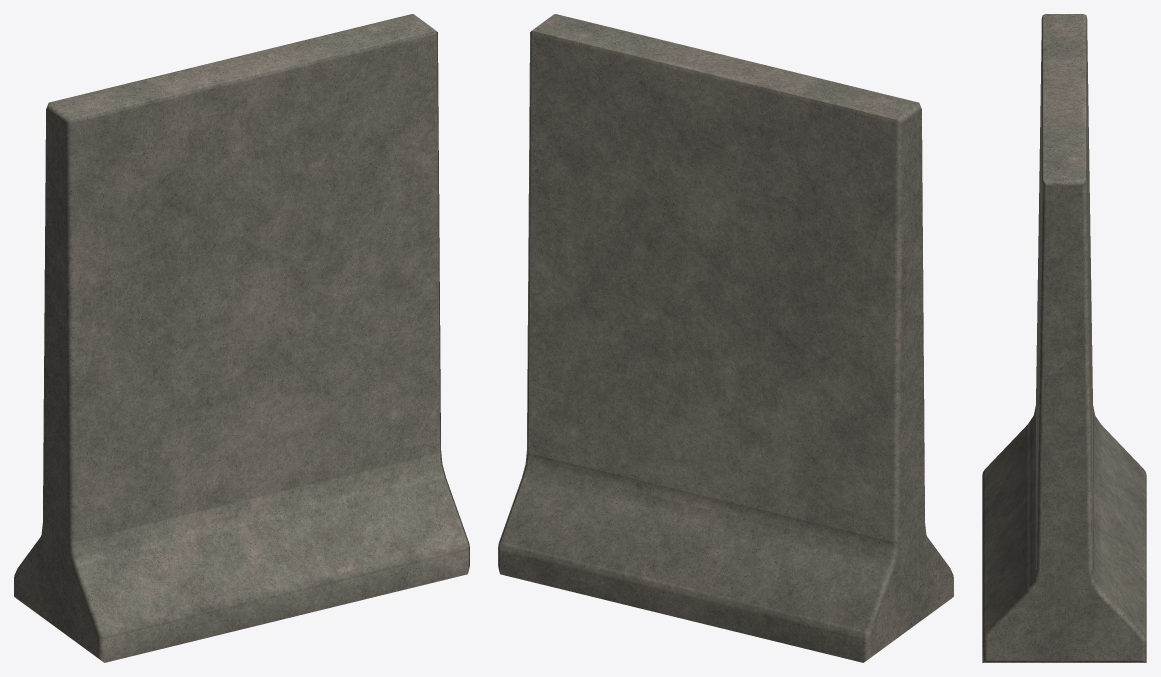
The model's file is barrier.glb.
3 renders of one model, left to right at view 1: azimuth 30°, elevation 25°; view 2: azimuth 150°, elevation 25°; view 3: azimuth 270°, elevation 25°, orthographic. The views are drawn at different scales.
Visible parts, largest first — view 1: model; view 2: model; view 3: model.
Part boxes in pixels (x1,y1,x2,y2): model: (14, 14, 469, 662); model: (498, 14, 953, 662); model: (982, 14, 1146, 662).
Size of the model in its own units: 1.95 by 2.6 by 0.8.
Materials: 1 (1 with a texture image).
